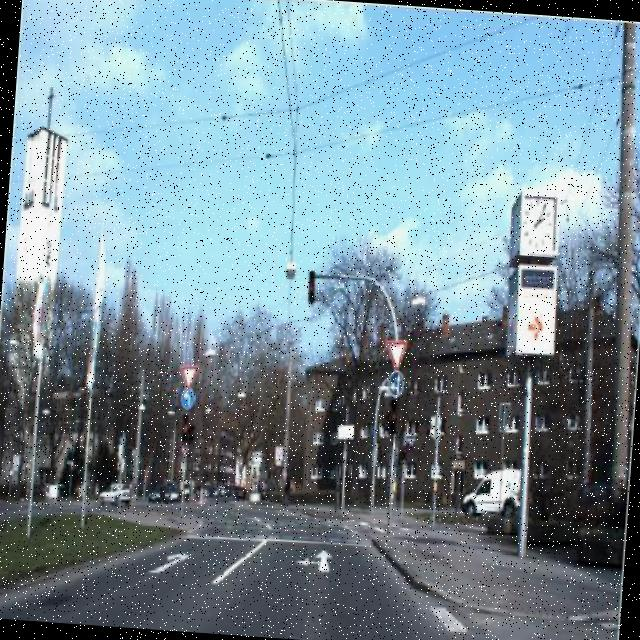Ustap pierwszenstwa: (383, 332, 408, 376), (179, 360, 200, 392)
